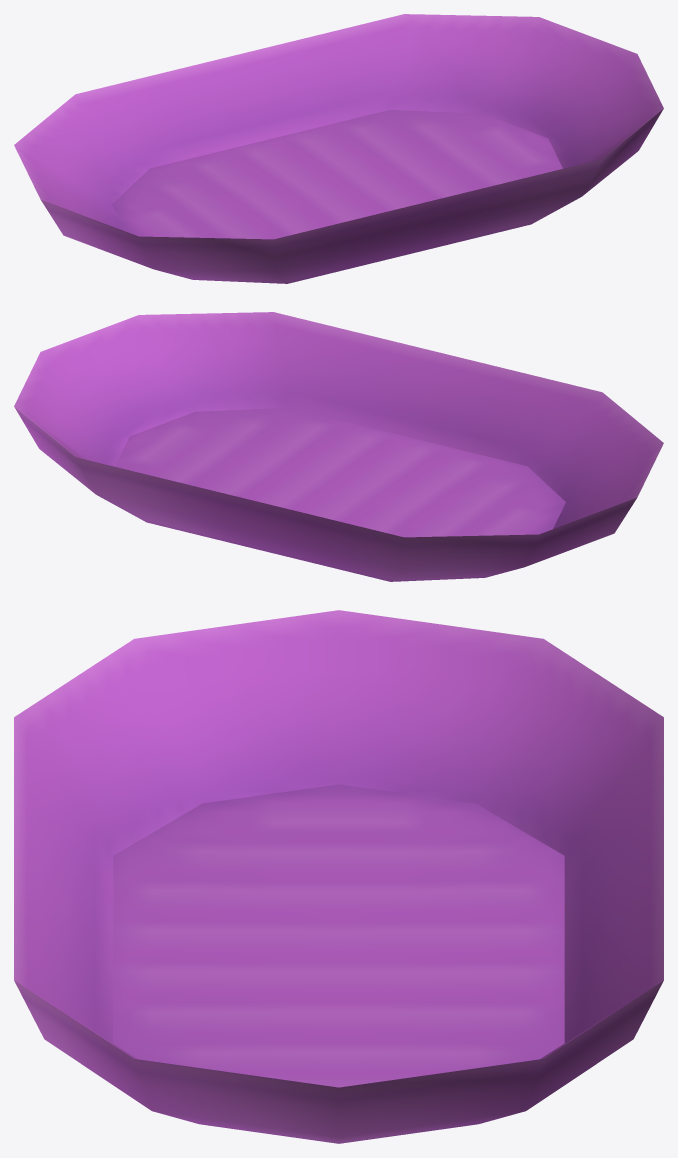
The model's file is jsf_Tray_11.fbx.
3 views of the same model, one above another, from view 1: azimuth 30°, elevation 25°; view 2: azimuth 150°, elevation 25°; view 3: azimuth 270°, elevation 25° (orthographic). The views are drawn at different scales.
Parts seen in each view (by area): view 1: jsf_Tray_11; view 2: jsf_Tray_11; view 3: jsf_Tray_11.
Part boxes in pixels (x1=…): jsf_Tray_11: x1=14, y1=14, x2=663, y2=283; jsf_Tray_11: x1=14, y1=312, x2=663, y2=581; jsf_Tray_11: x1=14, y1=610, x2=663, y2=1143.
Size of the model in its own units: 12.35 by 1.5 by 7.11.
